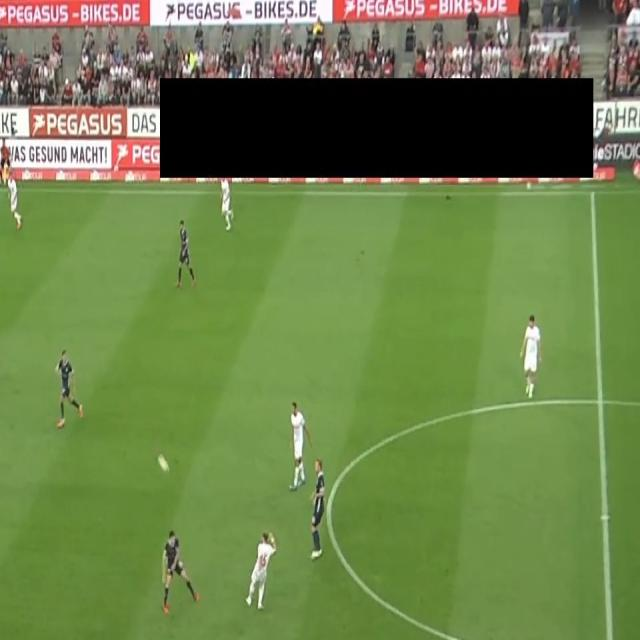ball: (157, 452, 170, 476)
